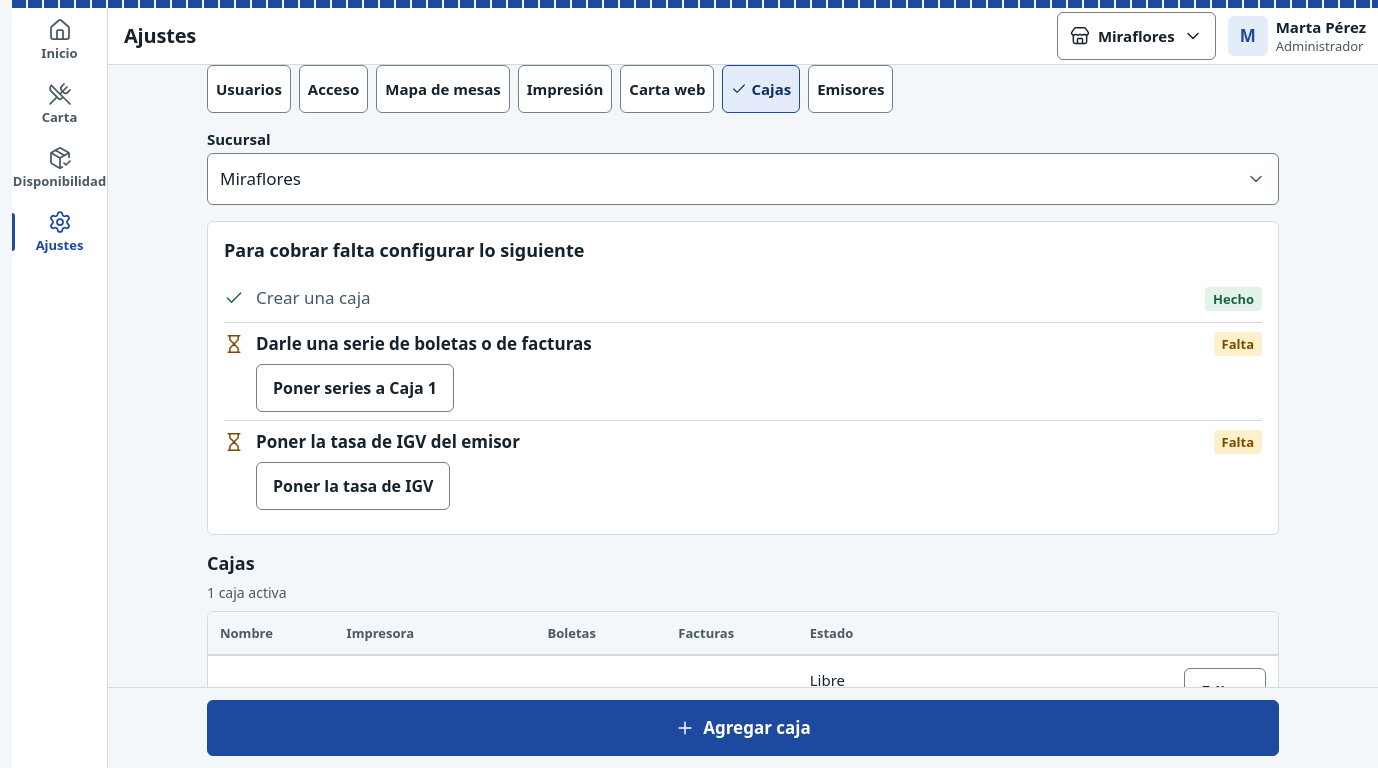
Test: Ajustes › Cajas: primeros pasos (pregunta 19) › con una caja sin series y sin tasa marca la caja como hecha y ofrece poner las series
(page scrolled)
Expected: the heading "Cajas" is shown, [207,551,255,575]
Expected: the text "Hecho" is shown, [1205,286,1262,310]
Step 1. Click the button "Poner series a Caja 1" → (355, 388), box [256,364,454,412]
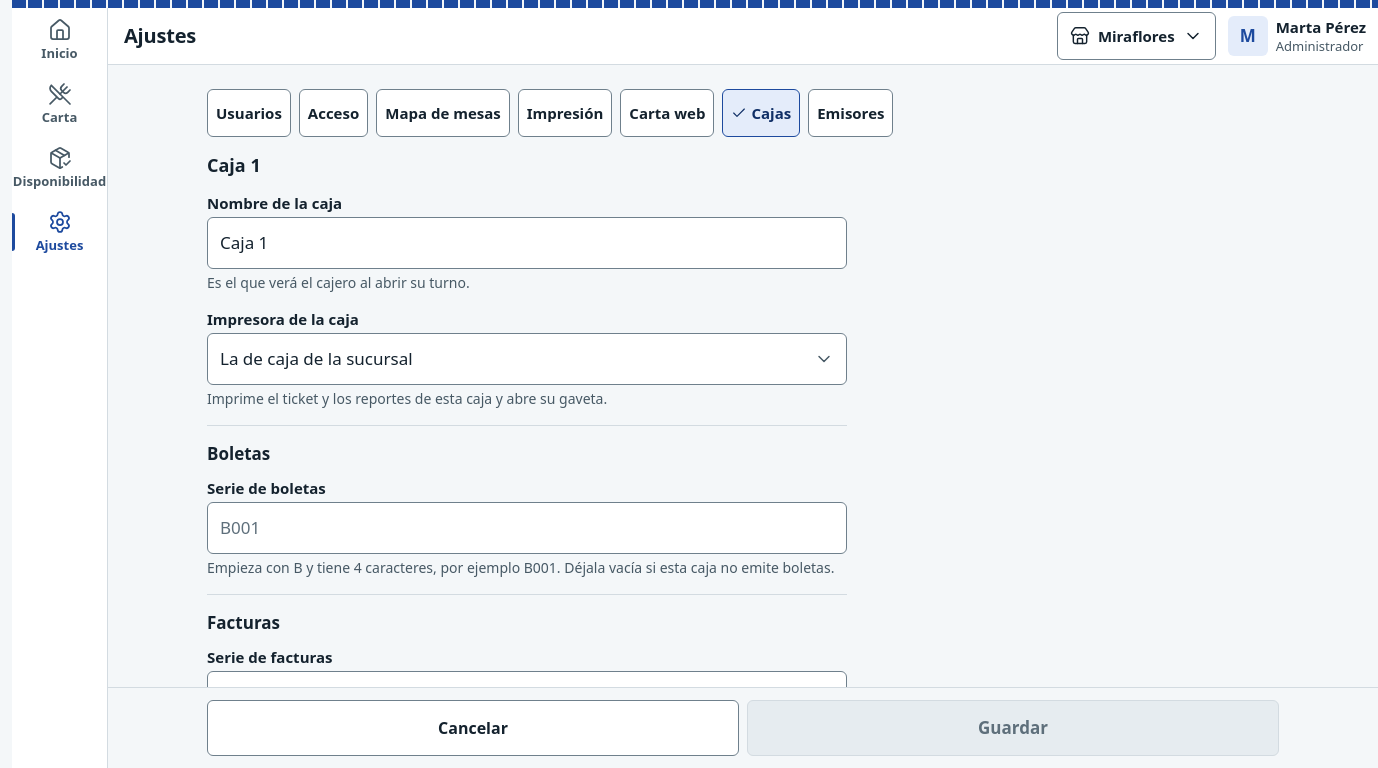
Expected: the heading "Caja 1" is shown, [207,153,261,177]
Expected: the field labelled "Serie de boletas" is shown, [208,504,846,552]
